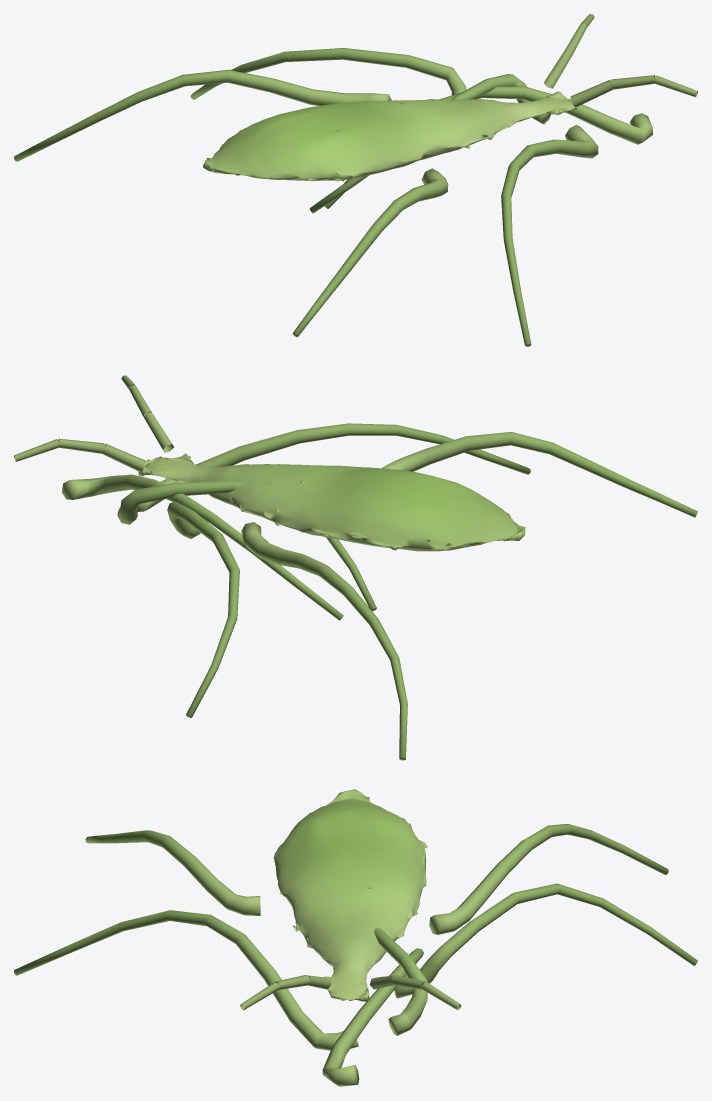
Rendered from aphid.glb.
3 renders of one model, top to bottom at view 1: azimuth 30°, elevation 25°; view 2: azimuth 150°, elevation 25°; view 3: azimuth 270°, elevation 25°, orthographic. The views are drawn at different scales.
Visible parts, largest first — view 1: aphid; view 2: aphid; view 3: aphid.
Part boxes in pixels (x1,y1,x2,y2): aphid: [14, 14, 697, 346]; aphid: [14, 375, 697, 760]; aphid: [14, 789, 697, 1086].
Bounding box in the file's own units: 1.16 × 0.273 × 1.39.
